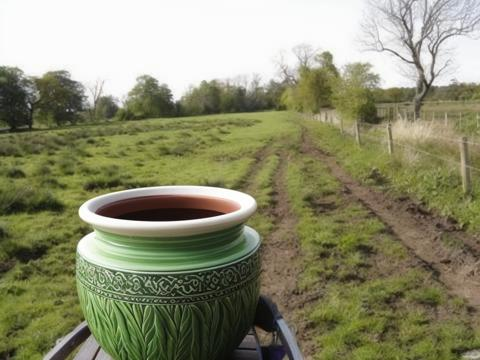pottedplant: (75, 182, 260, 360)
